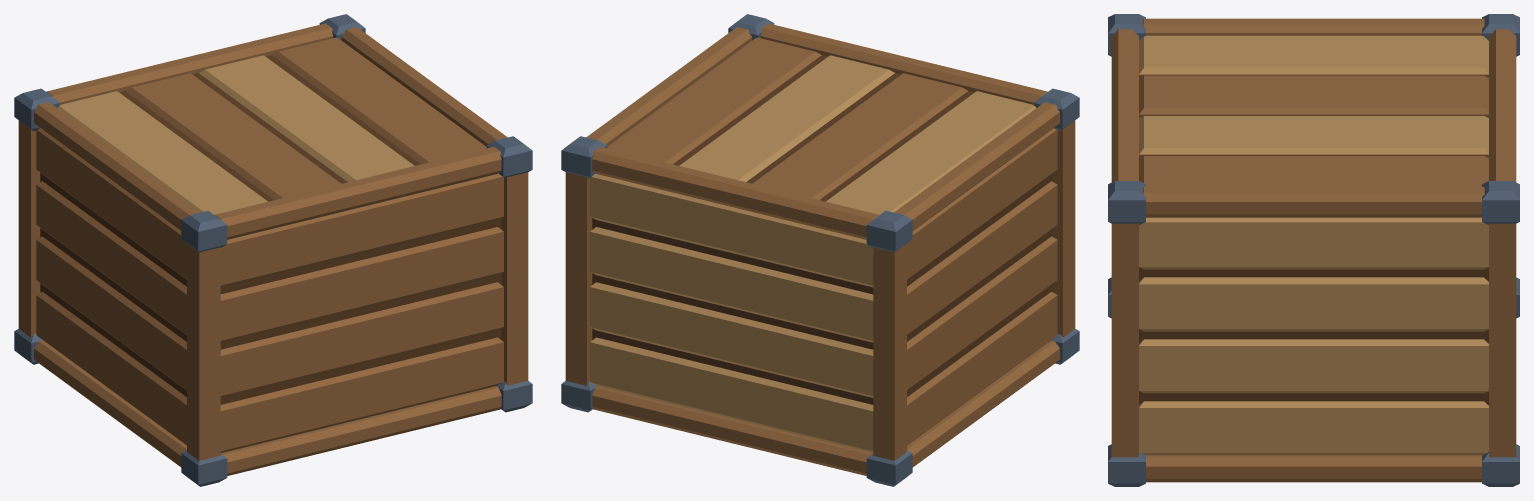
The model's file is Crate_29.glb.
3 renders of one model, left to right at view 1: azimuth 30°, elevation 25°; view 2: azimuth 150°, elevation 25°; view 3: azimuth 270°, elevation 25°, orthographic. The views are drawn at different scales.
Parts seen in each view (by area): view 1: Crate_29; view 2: Crate_29; view 3: Crate_29.
Part boxes in pixels (x1,y1,x2,y2): Crate_29: (14,14,532,486); Crate_29: (561,14,1079,486); Crate_29: (1108,14,1519,486).
Bounding box in the file's own units: 2.52 × 1.9 × 2.4.
